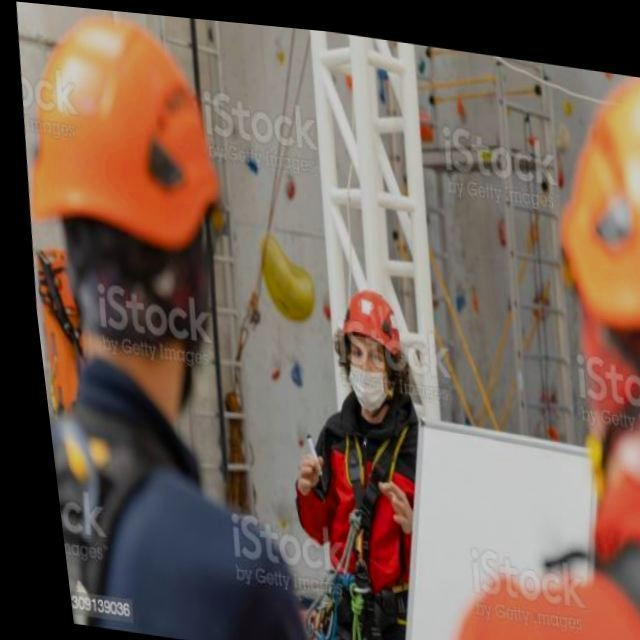safety belt: (297, 395, 423, 580)
